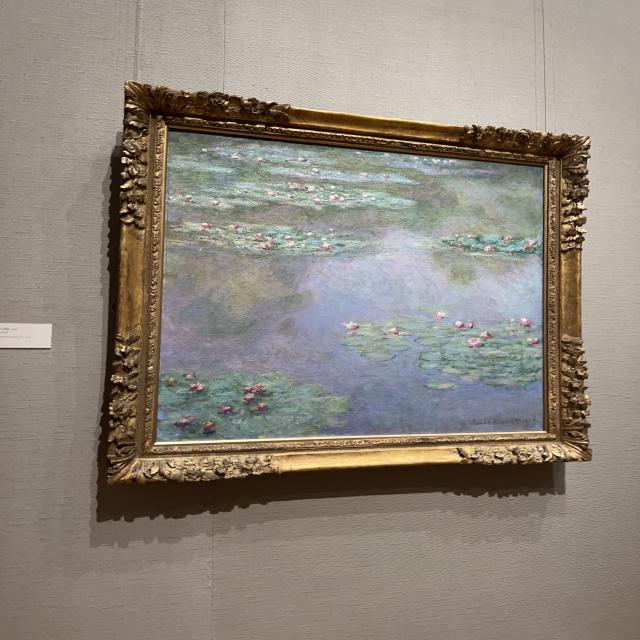lilies: (161, 134, 544, 439)
